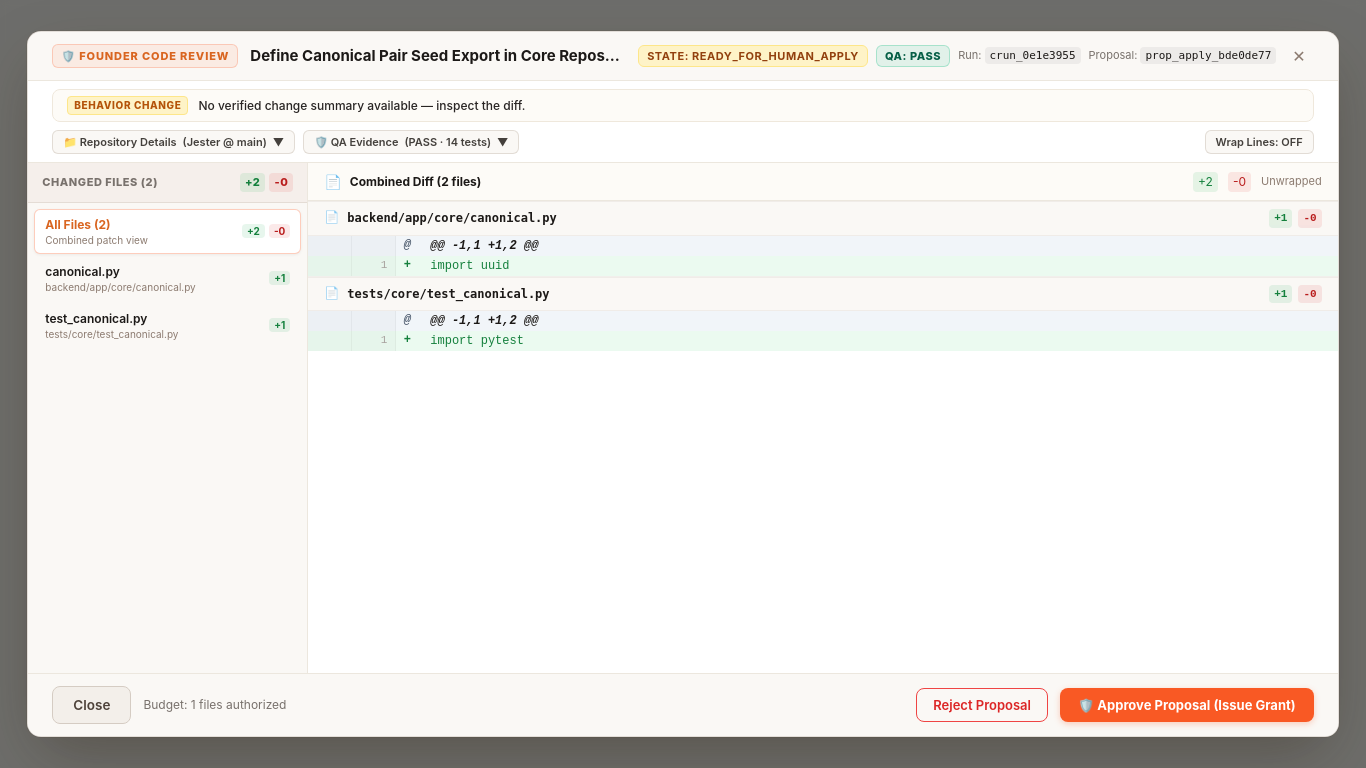
Scenario: STEP 21 — Jester AI Company Control Center Tests › 22. STEP 22F/22G: Per-file navigation filters displayed diff lines
This screenshot has width=1366, height=768.
Expected: the text "import uuid" is shown, [418,256,1338,276]
Expected: the text "import pytest" is shown, [418,331,1338,351]
// Click on test_canonical.py tab in file navigator
Click the button titled "tests/core/test_canonical.py" at [168, 325], box [34,303,301,348]
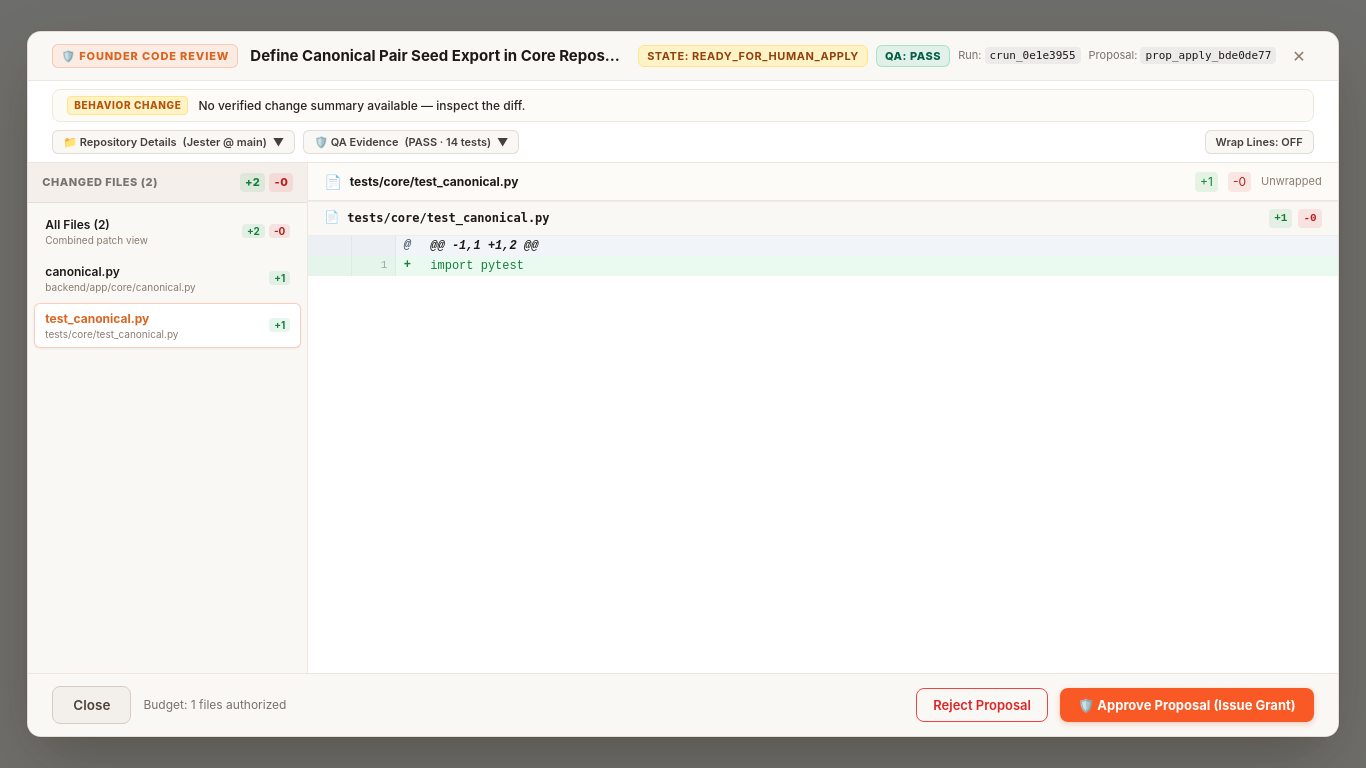
Expected: the text "import pytest" is shown, [418,256,1338,276]
Result: the text "import uuid" is gone
